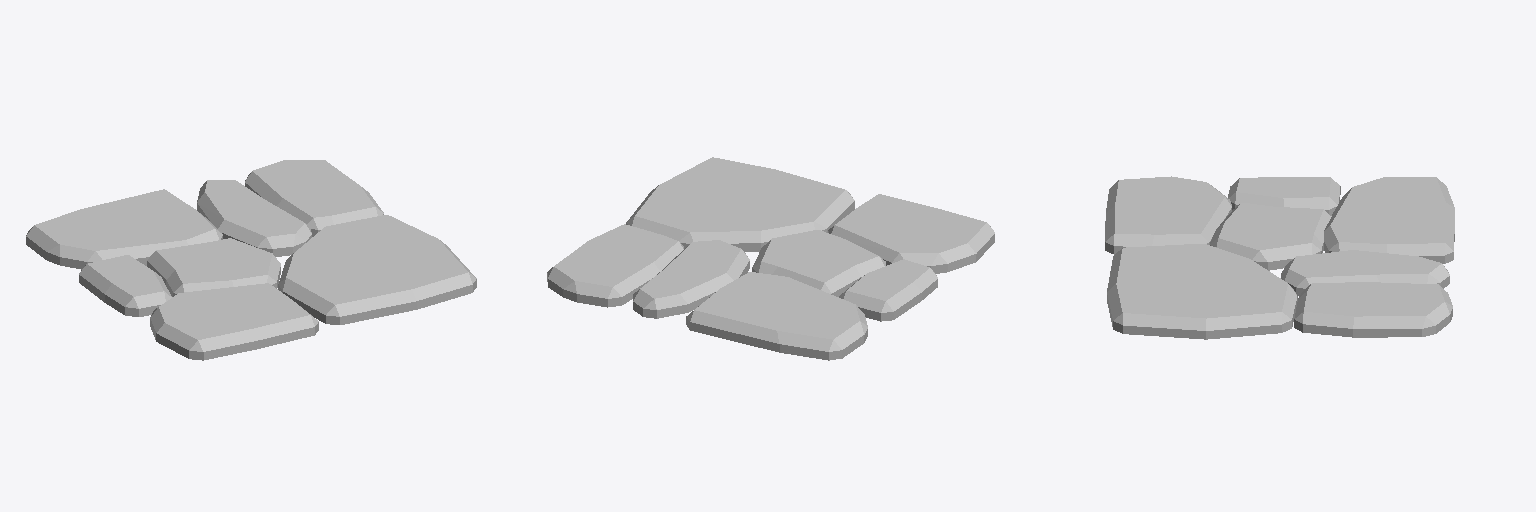
The model's file is path_B.obj.
3 renders of one model, left to right at view 1: azimuth 30°, elevation 25°; view 2: azimuth 150°, elevation 25°; view 3: azimuth 270°, elevation 25°, orthographic.
Parts seen in each view (by area): view 1: path_B_Cube.698; view 2: path_B_Cube.698; view 3: path_B_Cube.698.
Part boxes in pixels (bbox=[...]): path_B_Cube.698: bbox=[26, 160, 476, 360]; path_B_Cube.698: bbox=[547, 157, 994, 360]; path_B_Cube.698: bbox=[1105, 176, 1454, 339].
Bounding box in the file's own units: 1.89 × 0.1 × 1.86.